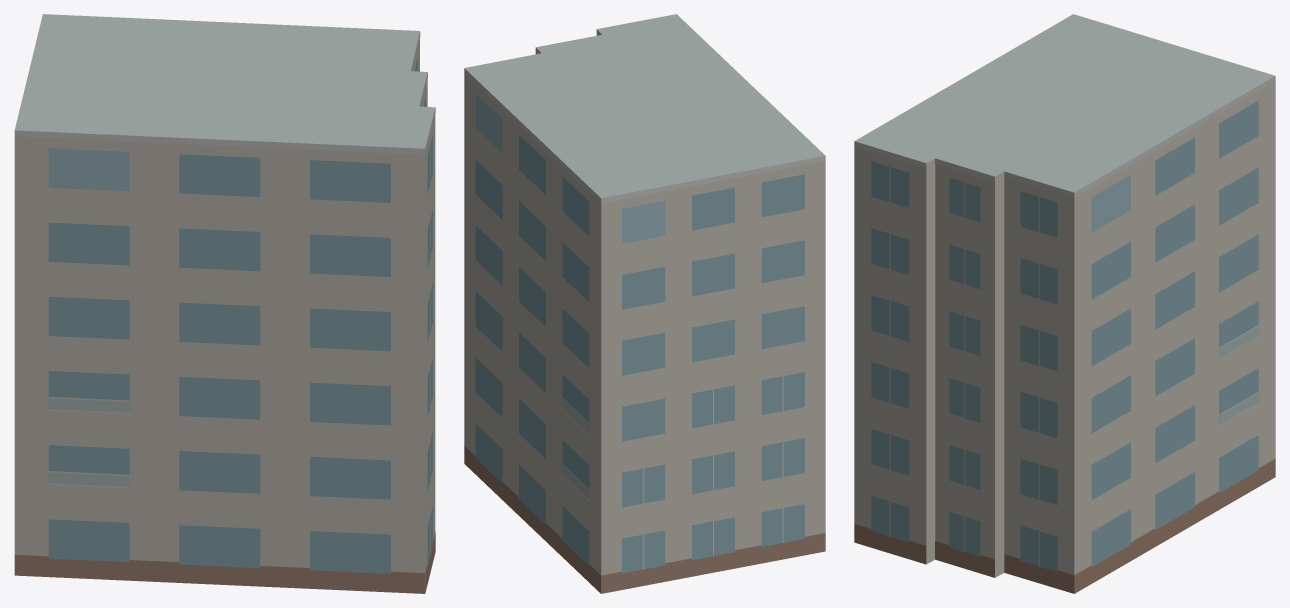
Rendered from survey-upis-32940485.glb.
3 renders of one model, left to right at view 1: azimuth 30°, elevation 25°; view 2: azimuth 150°, elevation 25°; view 3: azimuth 270°, elevation 25°, orthographic. The views are drawn at different scales.
Parts seen in each view (by area): view 1: survey-upis-32940485.tmp; view 2: survey-upis-32940485.tmp; view 3: survey-upis-32940485.tmp.
Part boxes in pixels (x1,y1,x2,y2): survey-upis-32940485.tmp: (14,14,435,593); survey-upis-32940485.tmp: (464,14,825,593); survey-upis-32940485.tmp: (854,14,1275,593).
Size of the model in its own units: 17.48 by 18.3 by 17.42.
